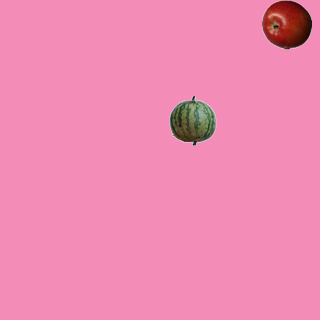Apple Braeburn: (261, 0, 311, 49)
Watermelon: (167, 95, 217, 145)
